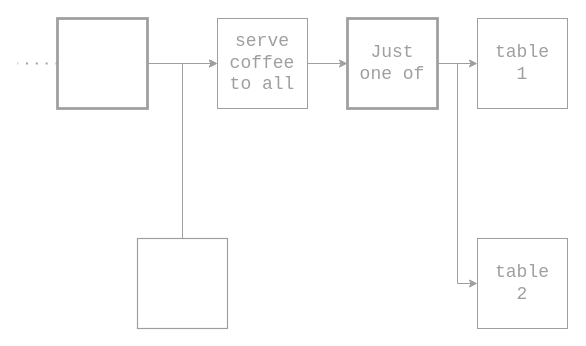
This 586x346 diagram has some shape labels left out. Here are the shapes that lost their labels. From the top down, the box of each, then its label:
(56, 17, 148, 109): Wait for all
(136, 237, 228, 329): cup of coffee
